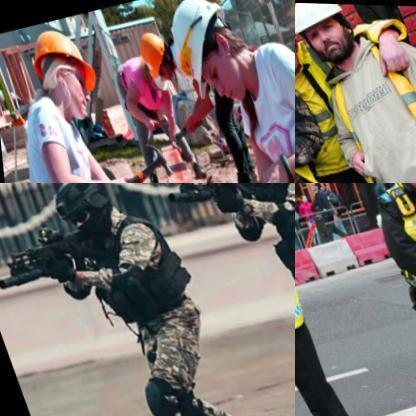vest: (69, 209, 205, 339), (315, 28, 415, 182), (295, 35, 373, 182), (236, 183, 294, 277), (378, 183, 415, 301)
